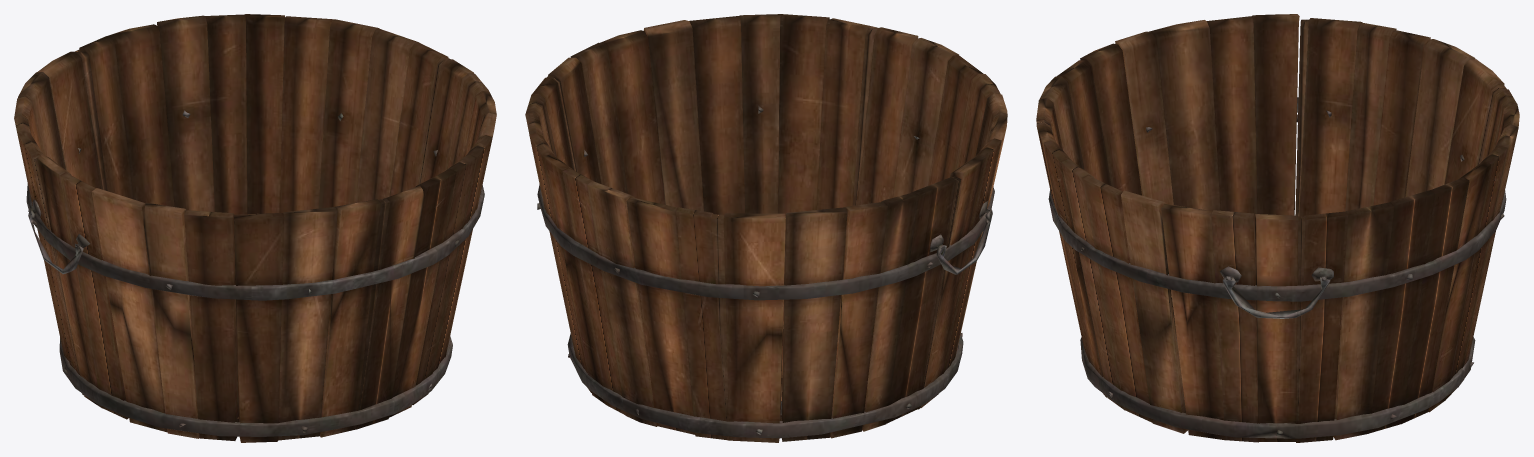
The model's file is wooden_bucket_02.glb.
3 views of the same model, side by side, from view 1: azimuth 30°, elevation 25°; view 2: azimuth 150°, elevation 25°; view 3: azimuth 270°, elevation 25° (orthographic).
Parts seen in each view (by area): view 1: wooden_bucket_02, wooden_bucket_02_handle_01; view 2: wooden_bucket_02, wooden_bucket_02_handle_01; view 3: wooden_bucket_02, wooden_bucket_02_handle_02.
Boxes of the visible parts, left/top/right/bottom form: wooden_bucket_02: left=14, top=14, right=496, bottom=442; wooden_bucket_02_handle_01: left=28, top=208, right=83, bottom=274; wooden_bucket_02: left=525, top=14, right=1007, bottom=442; wooden_bucket_02_handle_01: left=936, top=209, right=992, bottom=274; wooden_bucket_02: left=1036, top=14, right=1519, bottom=442; wooden_bucket_02_handle_02: left=1223, top=276, right=1330, bottom=318.
Size of the model in its own units: 0.6132 by 0.3503 by 0.6139.
1 material, 1 textured.
